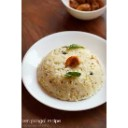venpongal: (45, 44, 102, 97)
